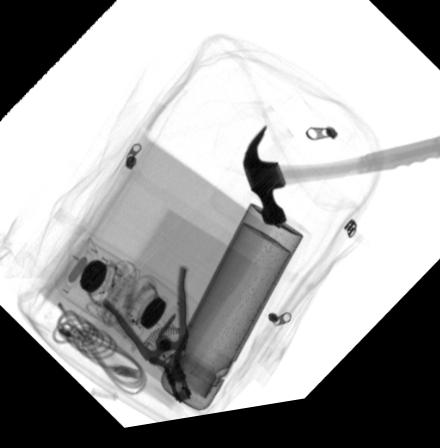Hammer: (241, 134, 440, 234)
Pliers: (100, 273, 190, 408)
